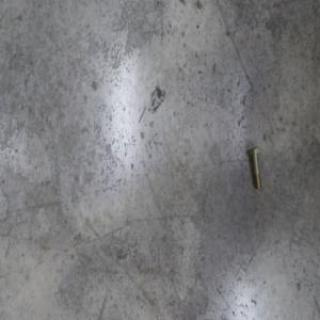Bolttrack_idkeyframe: (247, 145, 261, 189)
